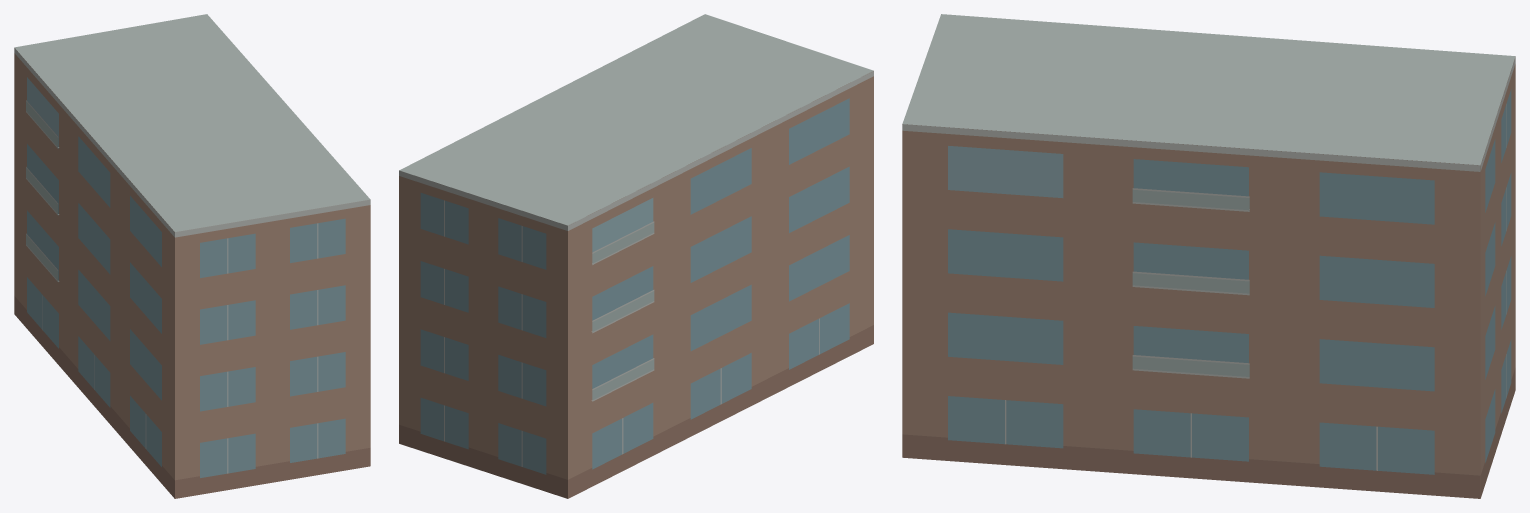
Rendered from survey-upis-32504073.glb.
3 renders of one model, left to right at view 1: azimuth 30°, elevation 25°; view 2: azimuth 150°, elevation 25°; view 3: azimuth 270°, elevation 25°, orthographic. The views are drawn at different scales.
Visible parts, largest first — view 1: survey-upis-32504073.tmp; view 2: survey-upis-32504073.tmp; view 3: survey-upis-32504073.tmp.
Boxes of the visible parts, bbox=[...] form: survey-upis-32504073.tmp: bbox=[14, 14, 370, 498]; survey-upis-32504073.tmp: bbox=[399, 14, 873, 498]; survey-upis-32504073.tmp: bbox=[902, 14, 1515, 498].
Size of the model in its own units: 11.87 by 12.2 by 20.34.
